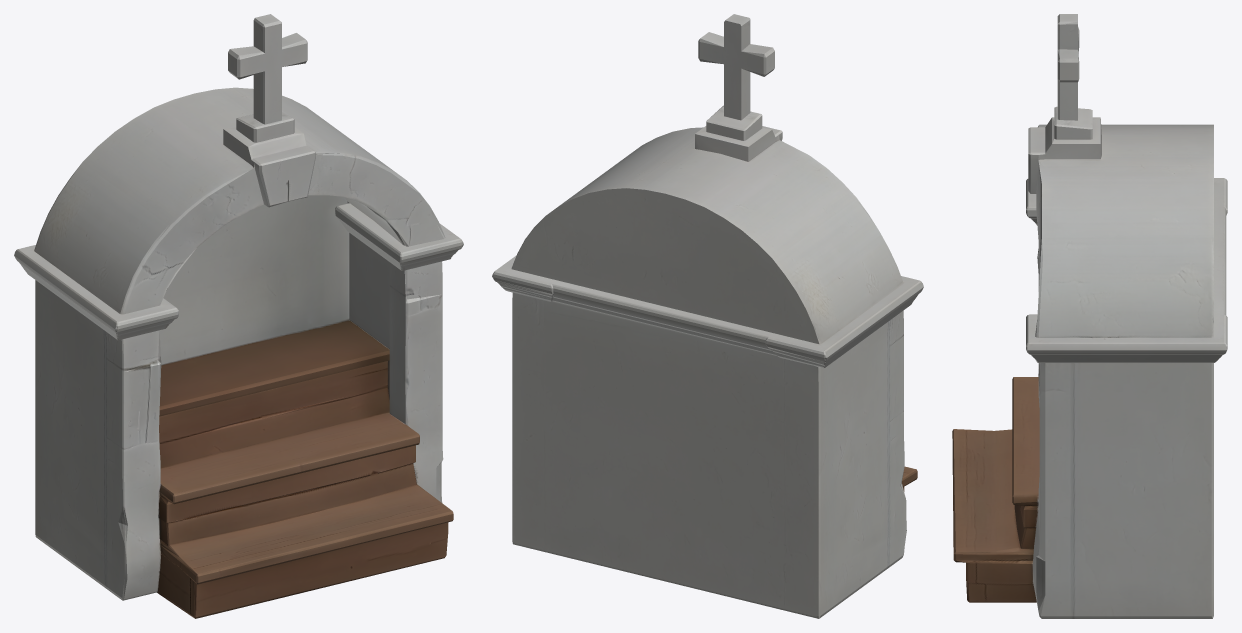
Rendered from altar.obj.
3 views of the same model, side by side, from view 1: azimuth 30°, elevation 25°; view 2: azimuth 150°, elevation 25°; view 3: azimuth 270°, elevation 25° (orthographic). The views are drawn at different scales.
Parts seen in each view (by area): view 1: base:Mesh; view 2: base:Mesh; view 3: base:Mesh.
Boxes of the visible parts, box(x1,y1,x2,y2) form: base:Mesh: box(14, 14, 463, 618); base:Mesh: box(492, 14, 923, 618); base:Mesh: box(952, 14, 1227, 618).
Size of the model in its own units: 1.3 by 1.9 by 0.9035.
Materials: 1 (1 with a texture image).
